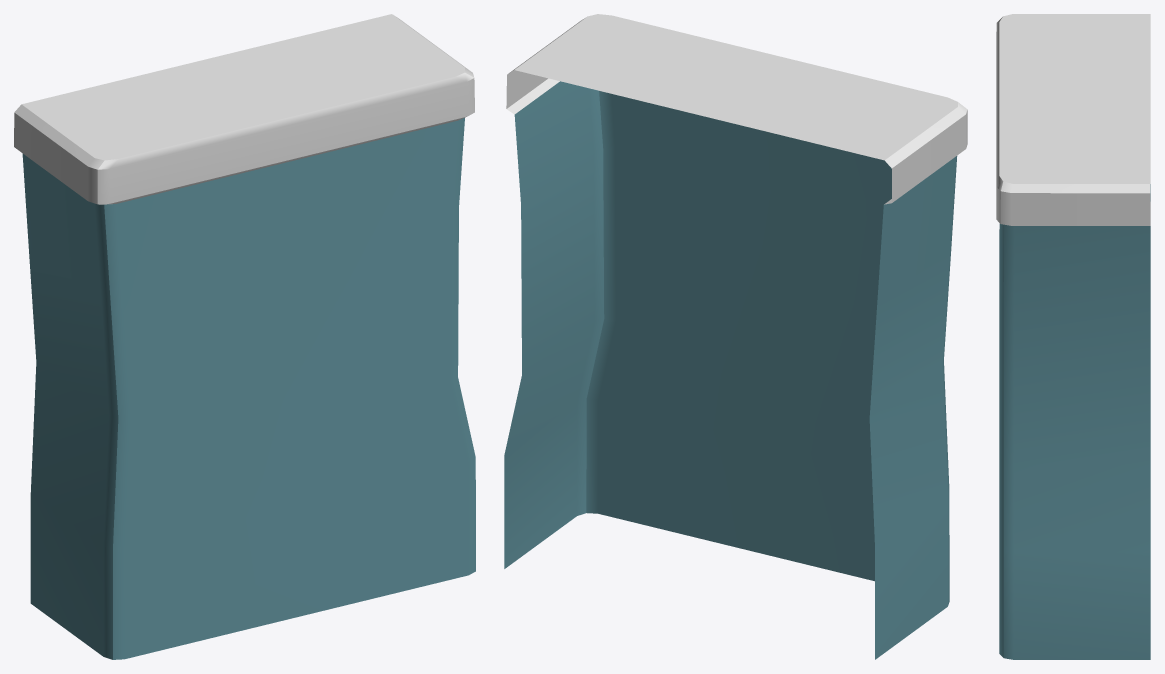
The model's file is batiment_c.fbx.
The picture shows the model from 3 angles, left to right: view 1: azimuth 30°, elevation 25°; view 2: azimuth 150°, elevation 25°; view 3: azimuth 270°, elevation 25°; orthographic projection. The views are drawn at different scales.
Parts seen in each view (by area): view 1: batiment_principale; view 2: batiment_principale; view 3: batiment_principale.
Part boxes in pixels (x1,y1,x2,y2): batiment_principale: [14, 14, 475, 659]; batiment_principale: [504, 14, 967, 659]; batiment_principale: [996, 14, 1150, 659].
Size of the model in its own units: 45.45 by 56.2 by 16.69.
